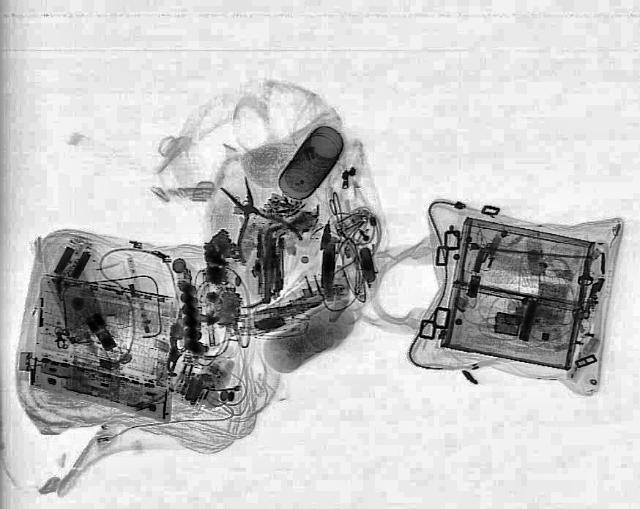Pliers: (198, 172, 306, 264)
